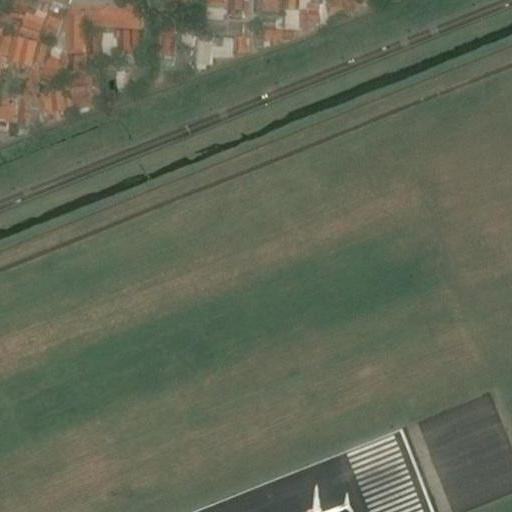Aircraft: (283, 481, 359, 512), (284, 481, 356, 512)
